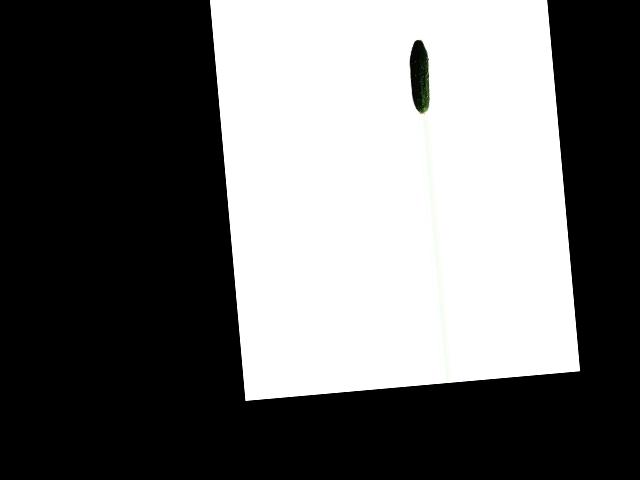cucumber: (407, 38, 432, 114)
